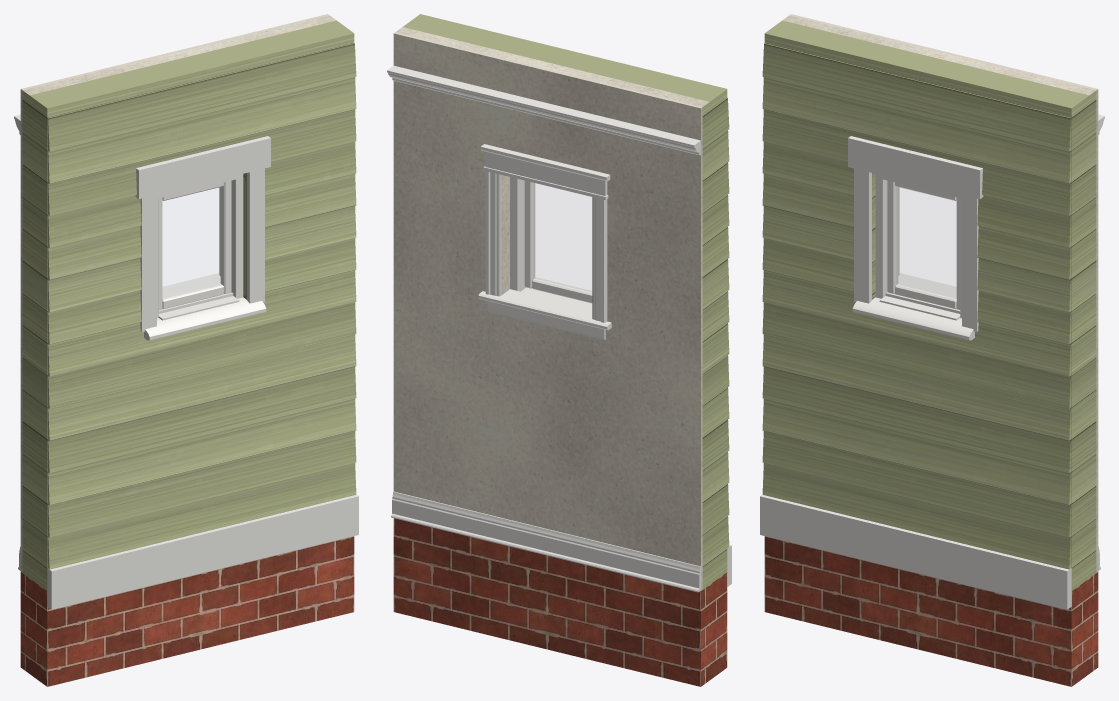
Rendered from wall_siding_small_window.glb.
The picture shows the model from 3 angles, left to right: view 1: azimuth 30°, elevation 25°; view 2: azimuth 150°, elevation 25°; view 3: azimuth 330°, elevation 25°; orthographic projection.
Parts seen in each view (by area): view 1: wall_siding_small_window_siding, wall_siding_small_window_brick, wall_siding_small_window_trim, folha_glass, wall_siding_small_window_plaster, folha_sash, wall_siding_small_window_frame, molduras; view 2: wall_siding_small_window_plaster, wall_siding_small_window_brick, molduras, wall_siding_small_window_siding, folha_glass, folha_sash, wall_siding_small_window_frame, wall_siding_small_window_trim; view 3: wall_siding_small_window_siding, wall_siding_small_window_brick, wall_siding_small_window_trim, folha_glass, wall_siding_small_window_plaster, folha_sash, wall_siding_small_window_frame, molduras.
Part boxes in pixels (box(x1,y1,x2,y2)): wall_siding_small_window_siding: box(22, 20, 356, 589); wall_siding_small_window_brick: box(20, 536, 354, 686); wall_siding_small_window_trim: box(47, 136, 358, 609); folha_glass: box(163, 187, 221, 297); wall_siding_small_window_plaster: box(20, 14, 336, 571); folha_sash: box(158, 180, 231, 309); wall_siding_small_window_frame: box(157, 174, 243, 318); molduras: box(14, 114, 220, 570); wall_siding_small_window_plaster: box(393, 27, 708, 589); wall_siding_small_window_brick: box(393, 518, 727, 686); molduras: box(387, 65, 700, 592); wall_siding_small_window_siding: box(403, 14, 729, 588); folha_glass: box(534, 183, 591, 291); folha_sash: box(524, 180, 592, 303); wall_siding_small_window_frame: box(510, 177, 525, 291); wall_siding_small_window_trim: box(521, 287, 731, 586); wall_siding_small_window_siding: box(762, 20, 1096, 589); wall_siding_small_window_brick: box(764, 536, 1098, 686); wall_siding_small_window_trim: box(760, 136, 1071, 609); folha_glass: box(897, 187, 955, 297); wall_siding_small_window_plaster: box(782, 14, 1098, 571); folha_sash: box(887, 180, 960, 309); wall_siding_small_window_frame: box(875, 174, 961, 318); molduras: box(898, 114, 1104, 570).
Bounding box in the file's own units: 2 × 3.6 × 0.455.
7 materials, 3 textured.
